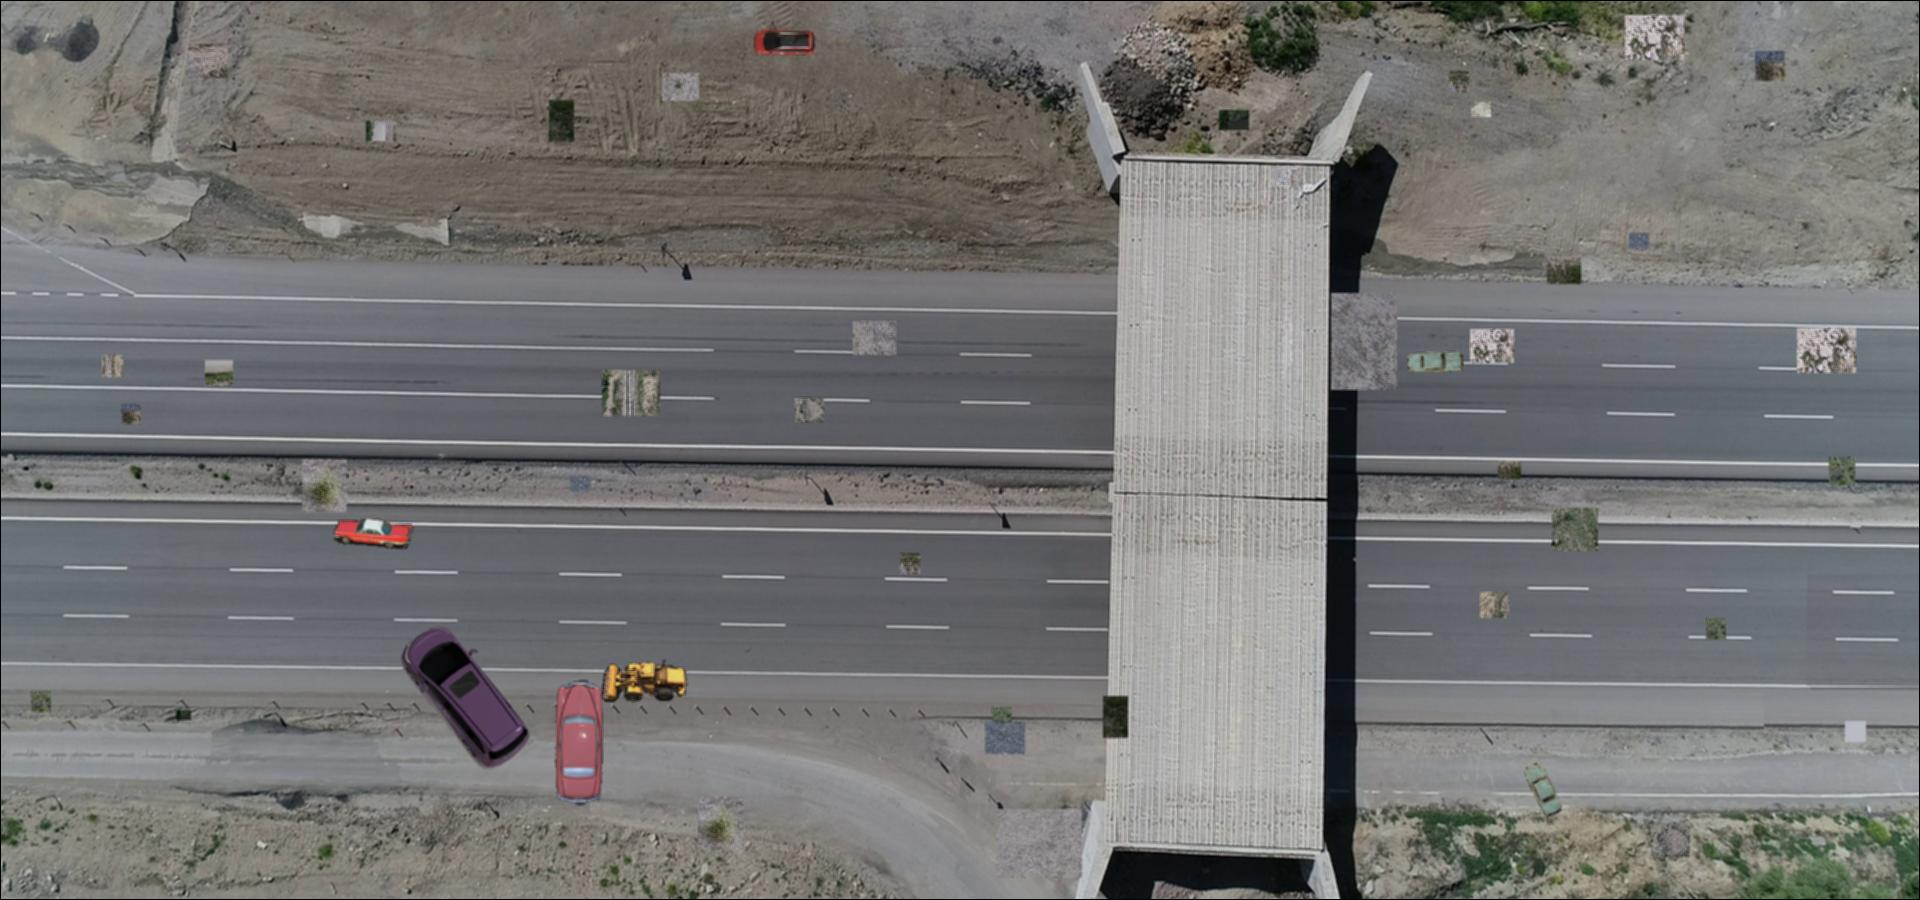arac: (400, 624, 530, 769), (552, 678, 609, 807), (599, 659, 691, 708), (1518, 757, 1569, 822), (333, 519, 415, 549), (753, 26, 818, 58), (1404, 350, 1464, 372)
